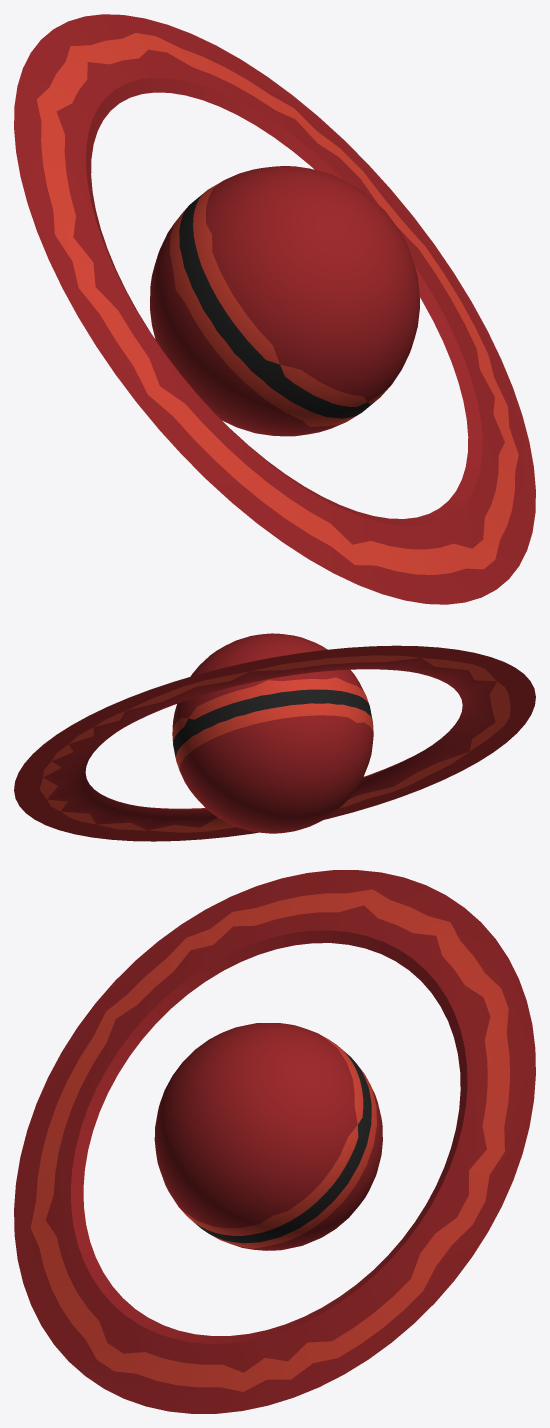
Rendered from Planet_10_Sphere.obj.
3 views of the same model, one above another, from view 1: azimuth 30°, elevation 25°; view 2: azimuth 150°, elevation 25°; view 3: azimuth 270°, elevation 25° (orthographic). The views are drawn at different scales.
Parts seen in each view (by area): view 1: Planet_10_Sphere.020; view 2: Planet_10_Sphere.020; view 3: Planet_10_Sphere.020.
Boxes of the visible parts, x1,y1,x2,y2 form: Planet_10_Sphere.020: [14, 14, 535, 604]; Planet_10_Sphere.020: [14, 633, 535, 841]; Planet_10_Sphere.020: [14, 870, 535, 1413].
Bounding box in the file's own units: 5.74 × 4.68 × 5.74.
